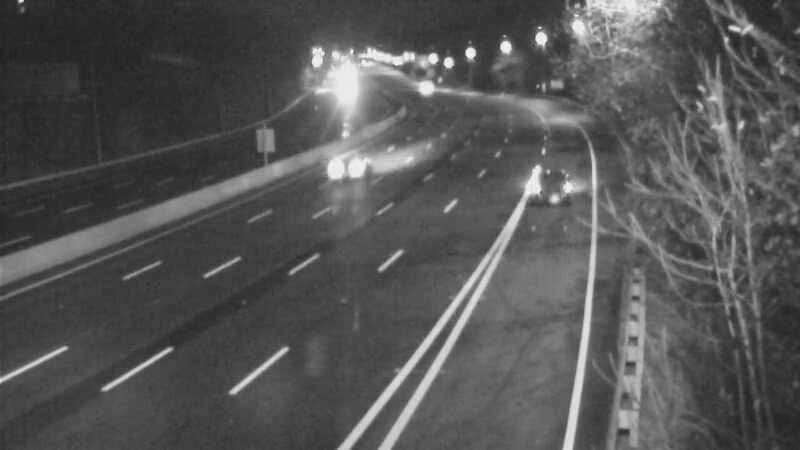vehicle: (512, 143, 592, 223), (298, 129, 378, 209), (396, 63, 446, 113)
